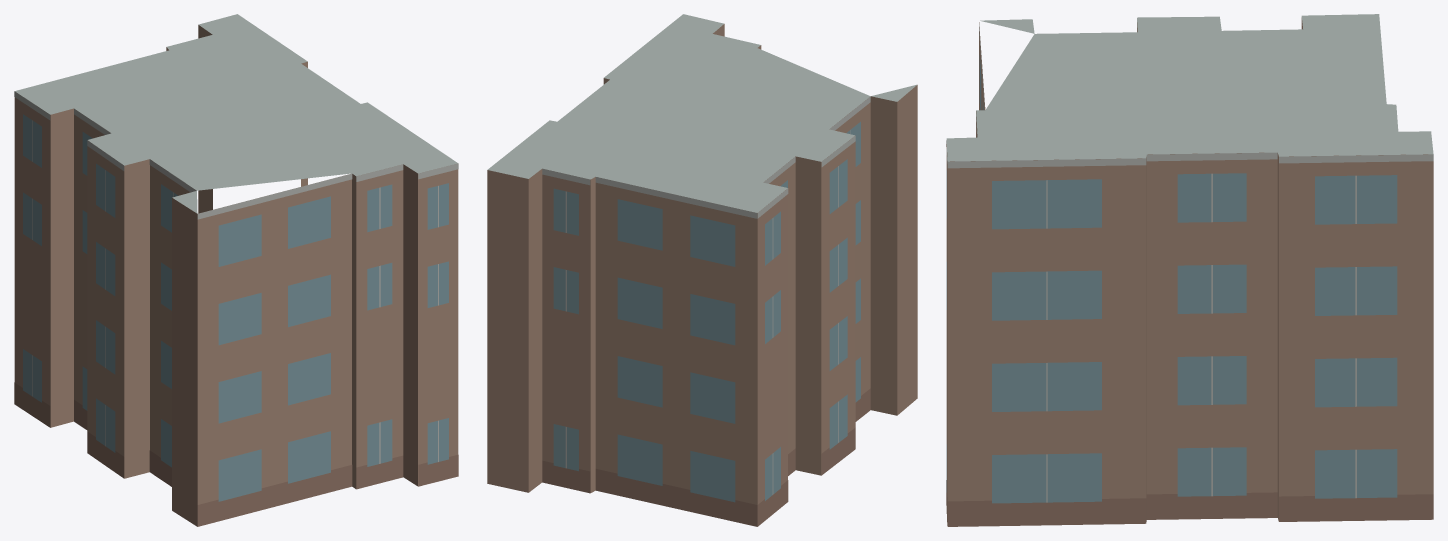
The model's file is survey-upis-32916467.glb.
The picture shows the model from 3 angles, left to right: view 1: azimuth 30°, elevation 25°; view 2: azimuth 150°, elevation 25°; view 3: azimuth 270°, elevation 25°; orthographic projection. The views are drawn at different scales.
Parts seen in each view (by area): view 1: survey-upis-32916467.tmp; view 2: survey-upis-32916467.tmp; view 3: survey-upis-32916467.tmp.
Boxes of the visible parts, x1,y1,x2,y2 form: survey-upis-32916467.tmp: (14,14,458,526); survey-upis-32916467.tmp: (487,14,917,526); survey-upis-32916467.tmp: (946,14,1433,526).
Size of the model in its own units: 11.26 by 13 by 15.71.
